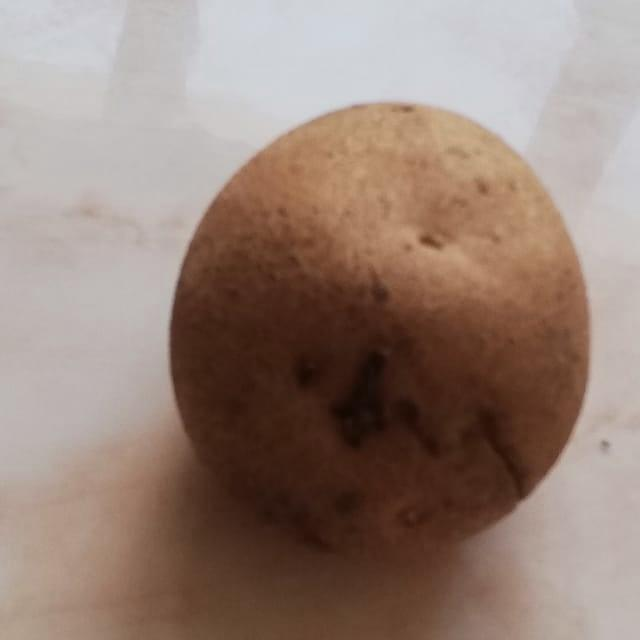potato: (162, 66, 602, 576)
